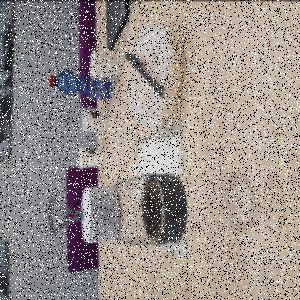Cup: (91, 50, 121, 80), (83, 108, 110, 133), (80, 147, 106, 170)
Plastic-bottle: (82, 173, 257, 247), (49, 71, 117, 101)
